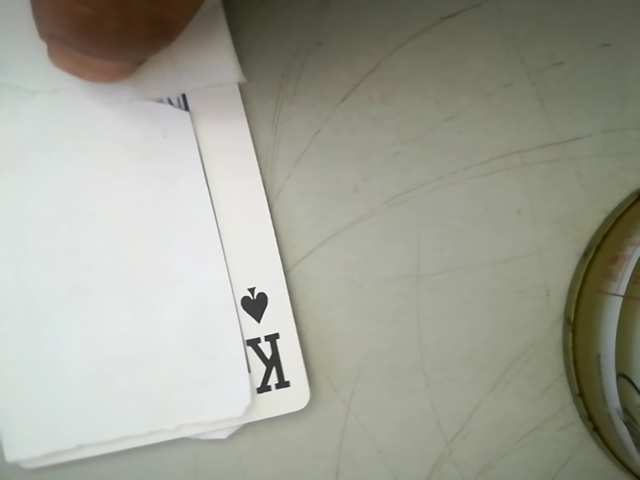ht k: (223, 273, 297, 413)
